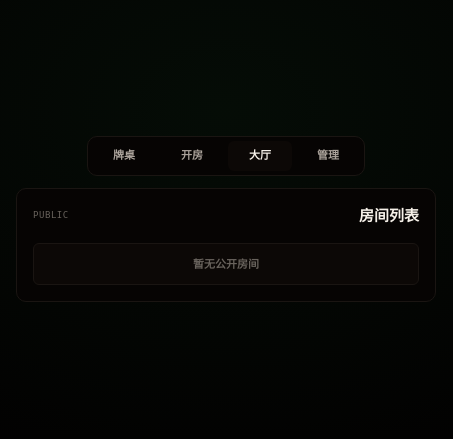
Test: App shell › loads public rooms and joins without a token from the browser
The image size is (453, 439).
What coordinates should you click on to do the following:
click the button "大厅"
I would click on:
 (260, 156)
Its box is [228,141,292,171].
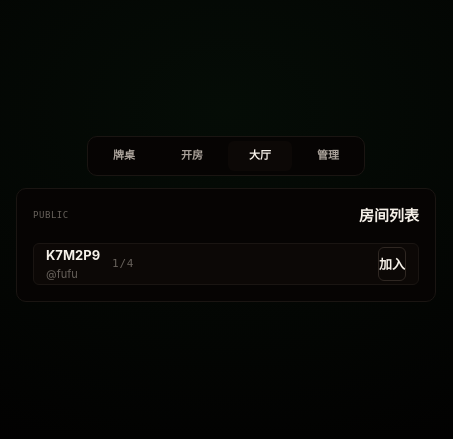
Now the button with aria-label "加入 K7M2P9" is shown
What coordinates should you click on to do the following:
click the button with aria-label "加入 K7M2P9"
I would click on:
 (392, 264)
Its box is [378,247,406,281].
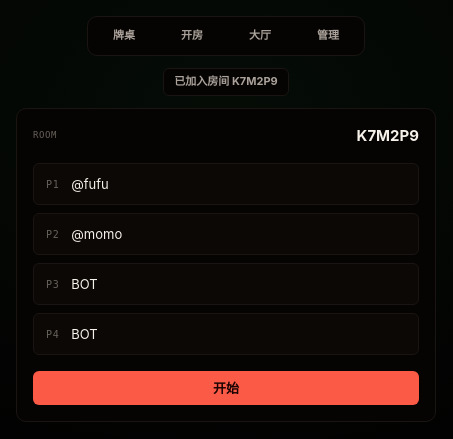
Now the element named "Waiting room" is shown
Now the text "@momo" is shown, box [71,226,122,242]
